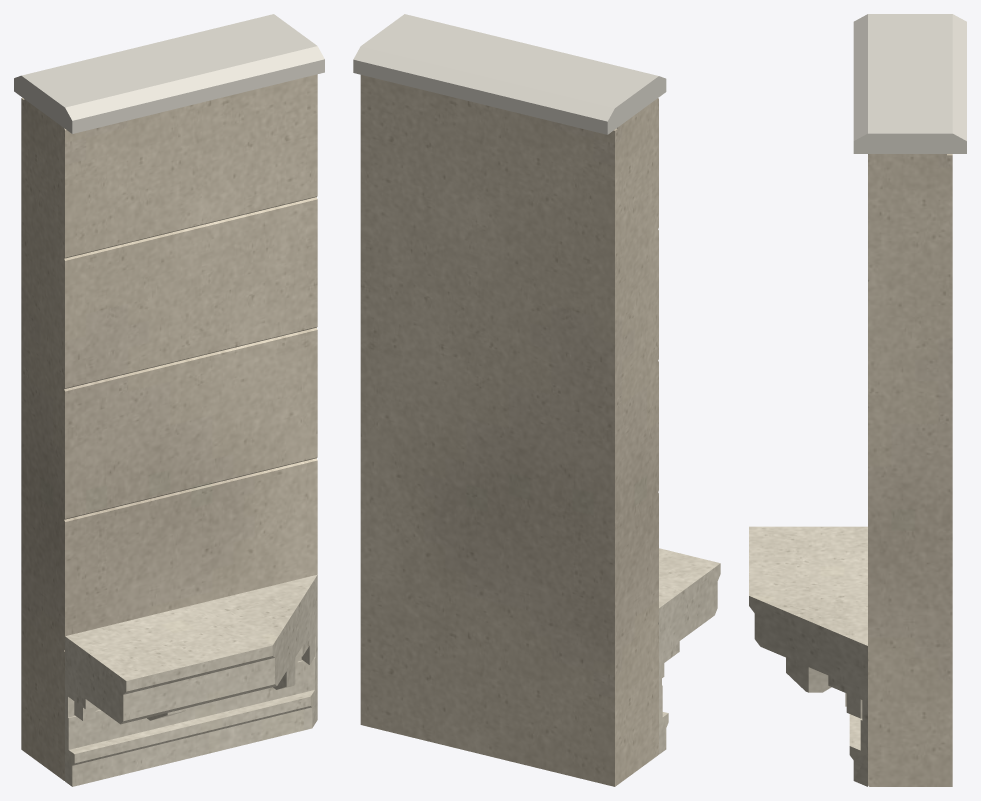
The model's file is pv_side_attic_r.glb.
The picture shows the model from 3 angles, left to right: view 1: azimuth 30°, elevation 25°; view 2: azimuth 150°, elevation 25°; view 3: azimuth 270°, elevation 25°; orthographic projection. The views are drawn at different scales.
Parts seen in each view (by area): view 1: pv_side_attic_r_ashlar, pv_side_attic_r_trim, pv_side_attic_r_coping; view 2: pv_side_attic_r_ashlar, pv_side_attic_r_coping, pv_side_attic_r_trim; view 3: pv_side_attic_r_ashlar, pv_side_attic_r_trim, pv_side_attic_r_coping.
Boxes of the visible parts, x1,y1,x2,y2 form: pv_side_attic_r_ashlar: (21,74,317,780); pv_side_attic_r_trim: (65,574,317,786); pv_side_attic_r_coping: (14,14,324,133); pv_side_attic_r_ashlar: (360,75,658,786); pv_side_attic_r_coping: (353,14,666,134); pv_side_attic_r_trim: (658,548,720,754); pv_side_attic_r_ashlar: (868,154,952,786); pv_side_attic_r_trim: (749,526,867,786); pv_side_attic_r_coping: (853,14,966,153).
Size of the model in its own units: 1 by 2.55 by 0.77.
Materials: 3 (2 with a texture image).
